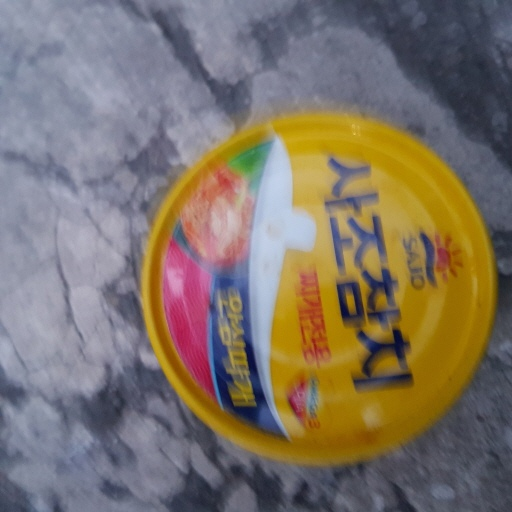Metal_1: (135, 107, 498, 461)
